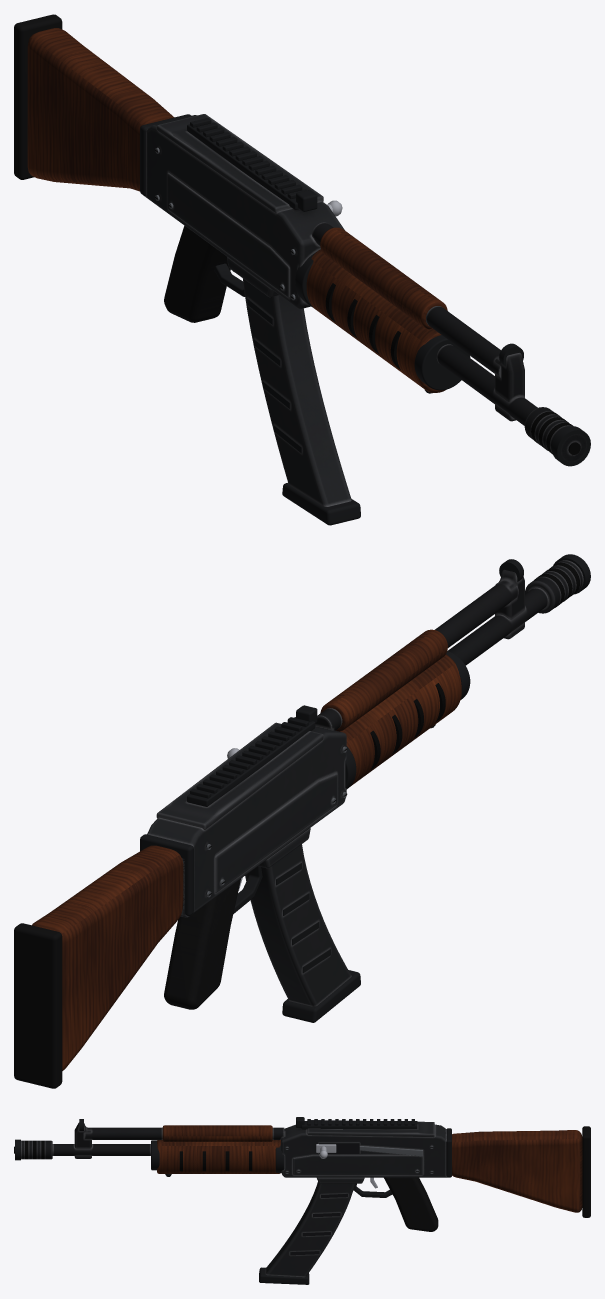
File: AGNI_47.fbx
The picture shows the model from 3 angles, top to bottom: view 1: azimuth 30°, elevation 25°; view 2: azimuth 150°, elevation 25°; view 3: azimuth 270°, elevation 25°; orthographic projection. The views are drawn at different scales.
Parts seen in each view (by area): view 1: AGNI_47_LOD0, Mag_LOD0; view 2: AGNI_47_LOD0, Mag_LOD0; view 3: AGNI_47_LOD0, Mag_LOD0.
Boxes of the visible parts, box(x1,y1,x2,y2) form: AGNI_47_LOD0: box(14, 14, 590, 466); Mag_LOD0: box(243, 278, 360, 525); AGNI_47_LOD0: box(14, 554, 590, 1088); Mag_LOD0: box(245, 844, 360, 1022); AGNI_47_LOD0: box(14, 1117, 590, 1231); Mag_LOD0: box(259, 1182, 354, 1284).
Size of what is drawn, in the model's own units: 0.0891 by 0.3099 by 0.997.
